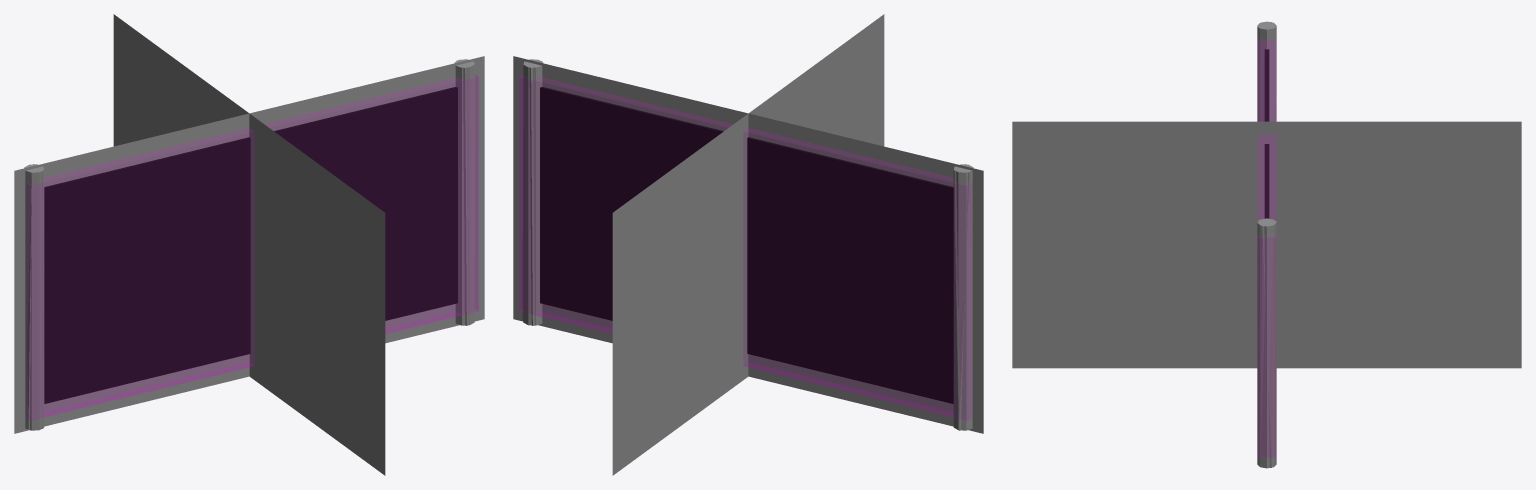
The model's file is stake_ribbon_yellow_2m.dae.
3 views of the same model, side by side, from view 1: azimuth 30°, elevation 25°; view 2: azimuth 150°, elevation 25°; view 3: azimuth 270°, elevation 25° (orthographic). The views are drawn at different scales.
Visible parts, largest first — view 1: stake_ribbon_yellow_2m_a800, Colmesh_panel-1, stake_ribbon_yellow_2m_a50, stake_ribbon_yellow_2m_a200; view 2: stake_ribbon_yellow_2m_a800, Colmesh_panel-1, stake_ribbon_yellow_2m_a50, stake_ribbon_yellow_2m_a200; view 3: stake_ribbon_yellow_2m_a50, stake_ribbon_yellow_2m_a800, Colmesh_panel-1, stake_ribbon_yellow_2m_a200.
Boxes of the visible parts, x1=… form: stake_ribbon_yellow_2m_a800: x1=24, y1=59, x2=474, y2=430; Colmesh_panel-1: x1=26, y1=75, x2=478, y2=420; stake_ribbon_yellow_2m_a50: x1=14, y1=14, x2=484, y2=475; stake_ribbon_yellow_2m_a200: x1=27, y1=60, x2=475, y2=430; stake_ribbon_yellow_2m_a800: x1=523, y1=59, x2=973, y2=430; Colmesh_panel-1: x1=519, y1=74, x2=971, y2=420; stake_ribbon_yellow_2m_a50: x1=513, y1=14, x2=983, y2=475; stake_ribbon_yellow_2m_a200: x1=522, y1=60, x2=970, y2=430; stake_ribbon_yellow_2m_a50: x1=1012, y1=121, x2=1521, y2=368; stake_ribbon_yellow_2m_a800: x1=1257, y1=21, x2=1276, y2=468; Colmesh_panel-1: x1=1257, y1=39, x2=1276, y2=456; stake_ribbon_yellow_2m_a200: x1=1257, y1=22, x2=1276, y2=467.
Size of the model in its own units: 2.1 by 2.1 by 1.12.
3 materials, 1 textured.
